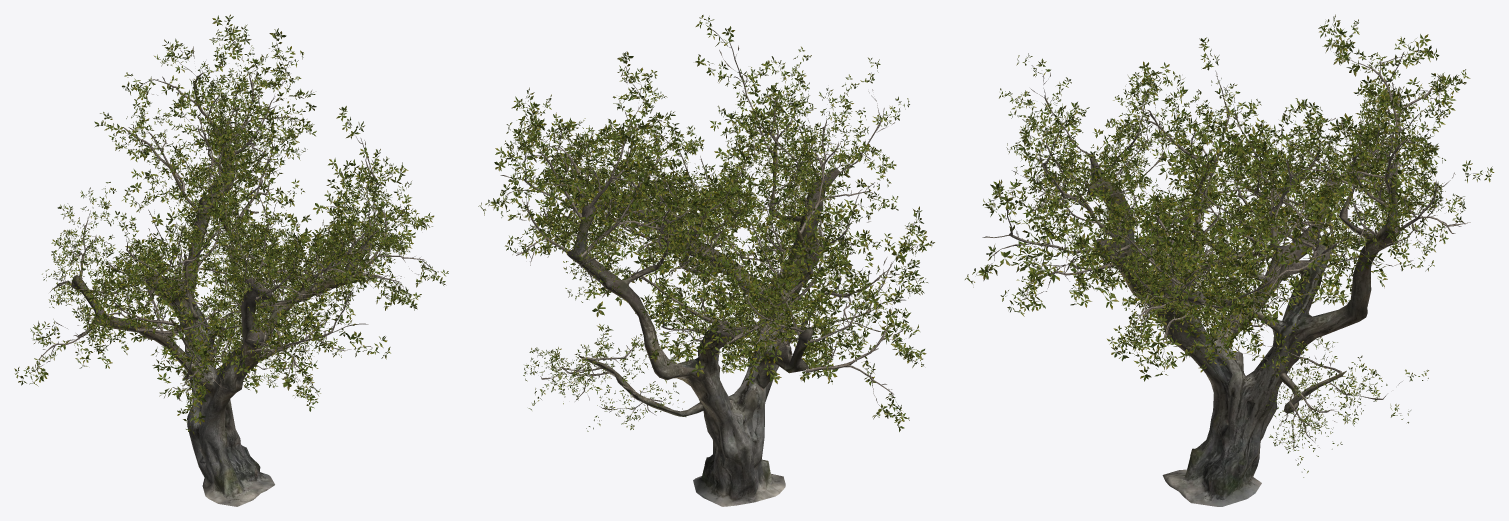
The model's file is island_tree_01.glb.
3 views of the same model, side by side, from view 1: azimuth 30°, elevation 25°; view 2: azimuth 150°, elevation 25°; view 3: azimuth 270°, elevation 25° (orthographic). The views are drawn at different scales.
Parts seen in each view (by area): view 1: island_tree_01_LOD0; view 2: island_tree_01_LOD0; view 3: island_tree_01_LOD0.
Boxes of the visible parts, x1=… form: island_tree_01_LOD0: x1=14, y1=14, x2=448, y2=506; island_tree_01_LOD0: x1=478, y1=15, x2=934, y2=506; island_tree_01_LOD0: x1=965, y1=14, x2=1494, y2=506.
Bounding box in the file's own units: 4.75 × 5.02 × 4.82.
3 materials, 3 textured.
